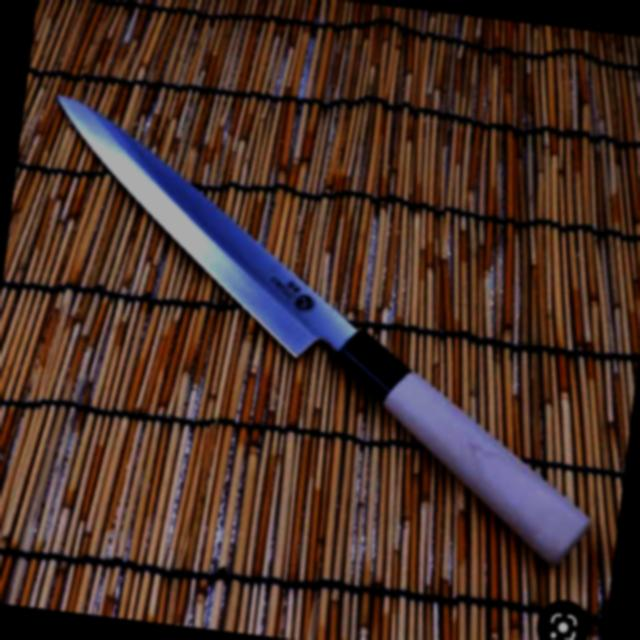knife: (43, 76, 607, 609)
